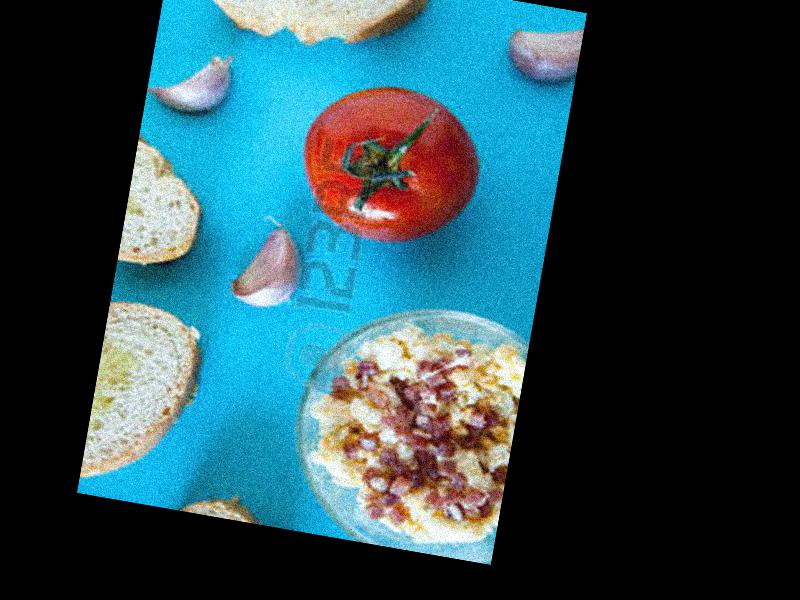Tomato: (290, 73, 490, 249)
